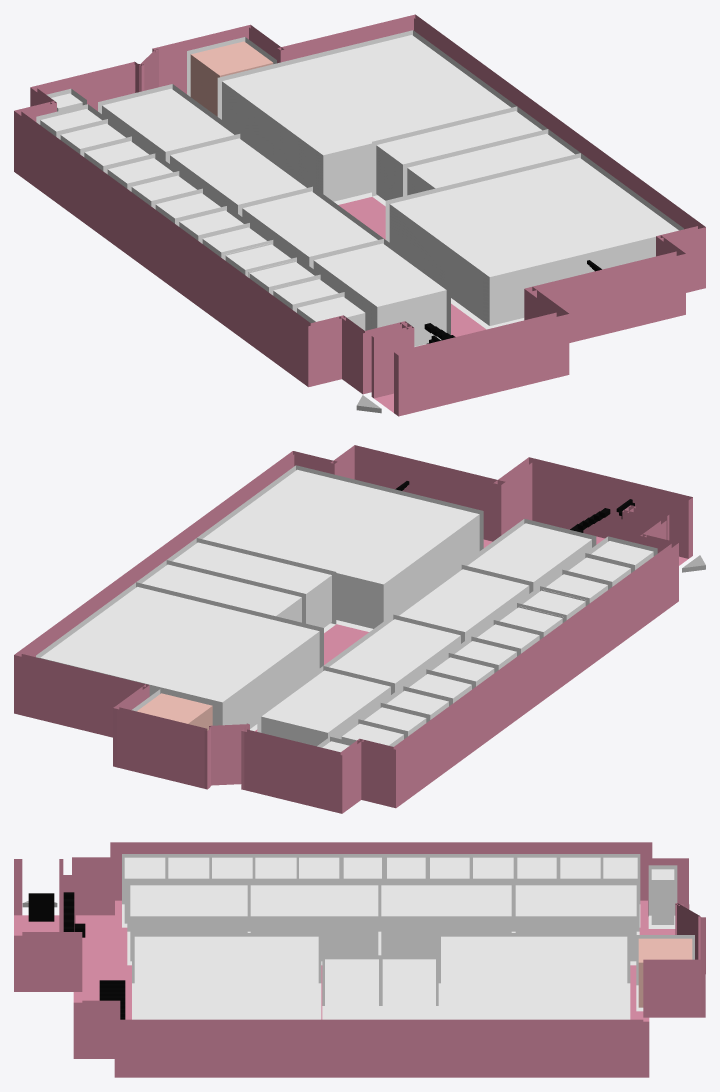
3 renders of one model, top to bottom at view 1: azimuth 30°, elevation 25°; view 2: azimuth 150°, elevation 25°; view 3: azimuth 270°, elevation 25°, orthographic. The views are drawn at different scales.
Visible parts, largest first — view 1: object, room_5_2_5, room_5_2_8, room_5_2_1, room_5_2_3, room_5_2_2, room_5_2_4, room_5_2_7, room_5_2_6, トイレ_5_2_1, object_line.005, object_line.002 (+19 smaller); view 2: object, room_5_2_5, room_5_2_8, room_5_2_4, room_5_2_3, room_5_2_2, room_5_2_6, room_5_2_1, room_5_2_7, object_line.005, object_line.002, トイレ_5_2_1 (+18 smaller); view 3: object, room_5_2_8, room_5_2_5, room_5_2_3, room_5_2_2, room_5_2_4, room_5_2_1, room_5_2_7, room_5_2_6, トイレ_5_2_1, object_line.002, room_5_2_9 (+26 smaller).
Boxes of the visible parts, x1,y1,x2,y2 form: object: (14, 14, 705, 416); room_5_2_5: (389, 157, 678, 325); room_5_2_8: (222, 35, 510, 201); room_5_2_1: (313, 243, 446, 346); room_5_2_3: (170, 138, 306, 213); room_5_2_2: (242, 191, 377, 265); room_5_2_4: (102, 88, 233, 160); room_5_2_7: (376, 111, 541, 200); room_5_2_6: (407, 133, 574, 195); トイレ_5_2_1: (190, 41, 273, 116); object_line.005: (385, 153, 683, 329); object_line.002: (217, 30, 516, 204); object: (14, 445, 692, 813); room_5_2_5: (202, 469, 479, 628); room_5_2_8: (40, 587, 319, 728); room_5_2_4: (261, 670, 390, 746); room_5_2_3: (329, 619, 460, 691); room_5_2_2: (399, 569, 529, 640); room_5_2_6: (172, 542, 331, 627); room_5_2_1: (467, 523, 591, 590); room_5_2_7: (142, 564, 301, 622); object_line.005: (197, 465, 483, 631); object_line.002: (36, 582, 323, 731); トイレ_5_2_1: (137, 693, 212, 730); object: (14, 842, 705, 1077); room_5_2_8: (441, 936, 627, 1019); room_5_2_5: (134, 936, 318, 1019); room_5_2_3: (381, 885, 511, 955); room_5_2_2: (250, 885, 378, 961); room_5_2_4: (515, 885, 636, 961); room_5_2_1: (130, 885, 247, 961); room_5_2_7: (382, 959, 435, 1019); room_5_2_6: (325, 959, 378, 1019); トイレ_5_2_1: (638, 938, 692, 1007); object_line.002: (438, 933, 630, 1019); room_5_2_9: (651, 869, 674, 924).
Size of the model in its own units: 1.56 by 0.234 by 2.54.
